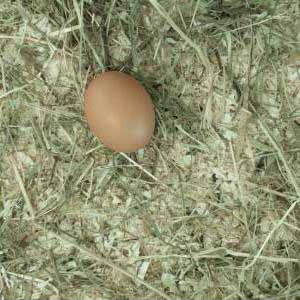egg: (85, 71, 156, 152)
